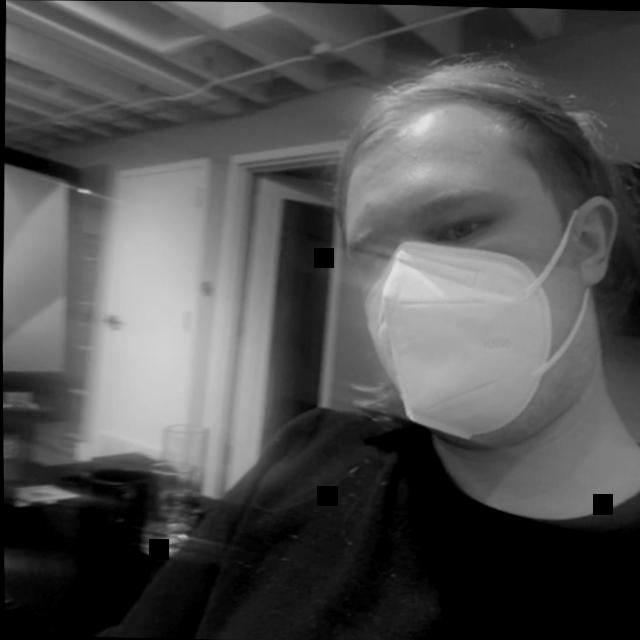Mask: (315, 33, 640, 526)
